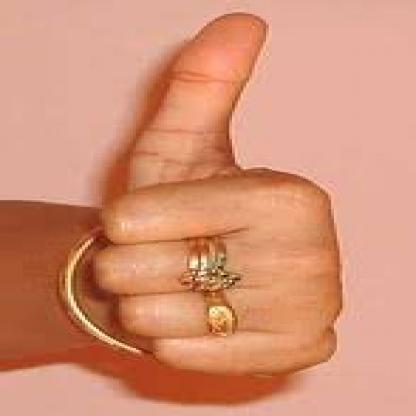thumb_up: (81, 9, 345, 375)
